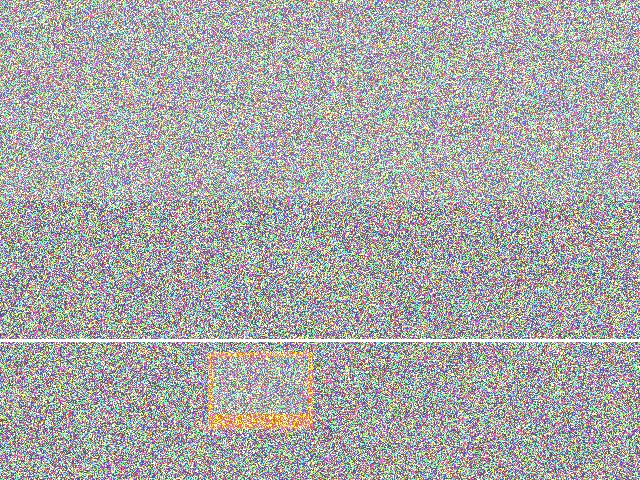truck: (67, 122, 202, 203), (384, 142, 535, 208)
